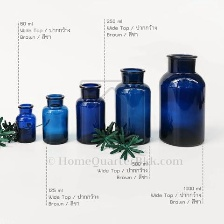bottle: (156, 48, 212, 150), (112, 64, 151, 147), (73, 79, 110, 145), (40, 91, 68, 146), (12, 100, 38, 146)
